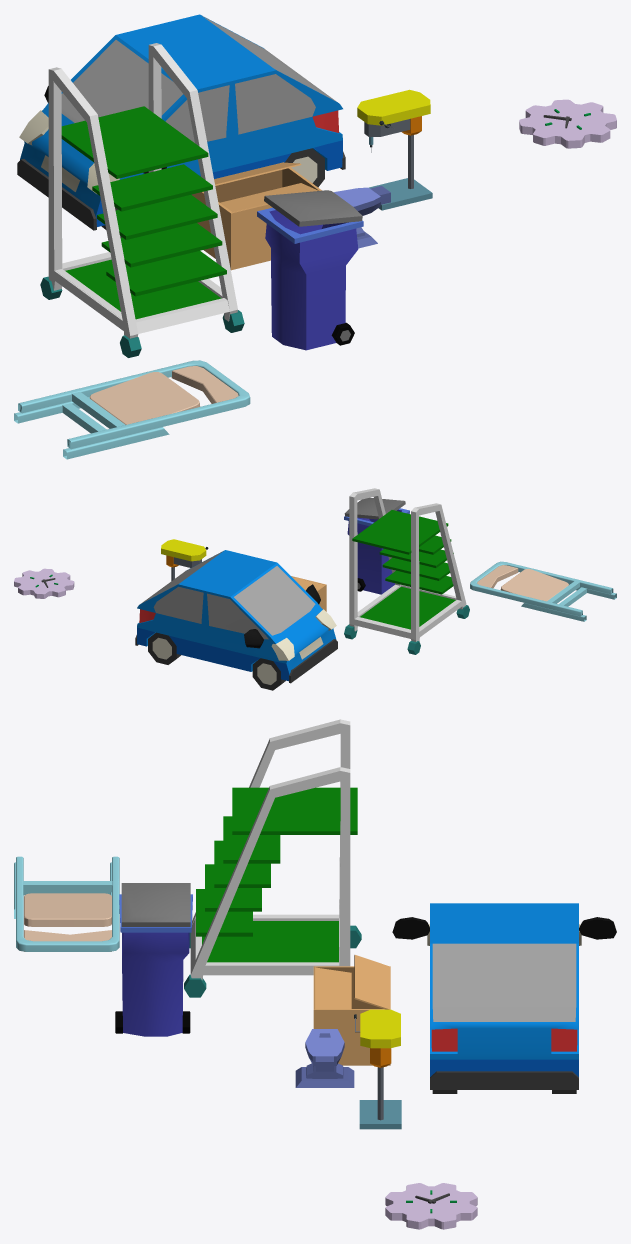
File: Level_41 to 43.fbx
3 views of the same model, one above another, from view 1: azimuth 30°, elevation 25°; view 2: azimuth 150°, elevation 25°; view 3: azimuth 270°, elevation 25° (orthographic). The views are drawn at different scales.
Visible parts, largest first — view 1: Stair, Car, Table2, Dustbin1, Box, Machine, Clock, Cap, polySurface12, polySurface22; view 2: Car, Stair, Table2, Dustbin1, Clock, Machine, polySurface19, polySurface20, Cap, Box; view 3: Car, Stair, Table2, Dustbin1, Box, Machine, Clock, Cap, polySurface12.
Boxes of the visible parts, left/top/right/bottom form: Stair: left=48, top=43, right=237, bottom=338; Car: left=17, top=14, right=345, bottom=230; Table2: left=14, top=360, right=250, bottom=459; Dustbin1: left=257, top=207, right=363, bottom=350; Box: left=192, top=162, right=321, bottom=270; Machine: left=357, top=89, right=432, bottom=210; Clock: left=519, top=99, right=616, bottom=148; Cap: left=264, top=190, right=362, bottom=226; polySurface12: left=334, top=186, right=390, bottom=248; polySurface22: left=285, top=148, right=324, bottom=187; Car: left=135, top=550, right=337, bottom=683; Stair: left=349, top=488, right=466, bottom=641; Table2: left=470, top=561, right=616, bottom=621; Dustbin1: left=344, top=508, right=409, bottom=594; Clock: left=14, top=568, right=74, bottom=598; Machine: left=161, top=539, right=208, bottom=580; polySurface19: left=252, top=658, right=285, bottom=690; polySurface20: left=148, top=632, right=181, bottom=664; Cap: left=344, top=497, right=405, bottom=519; Box: left=291, top=576, right=326, bottom=611; Car: left=392, top=903, right=616, bottom=1089; Stair: left=190, top=719, right=357, bottom=980; Table2: left=14, top=856, right=119, bottom=951; Dustbin1: left=115, top=894, right=192, bottom=1036; Box: left=313, top=955, right=390, bottom=1065; Machine: left=354, top=1009, right=401, bottom=1129; Clock: left=385, top=1183, right=477, bottom=1229; Cap: left=121, top=883, right=190, bottom=926; polySurface12: left=295, top=1029, right=354, bottom=1087.
Size of the model in its own units: 18.51 by 5.49 by 13.08.
